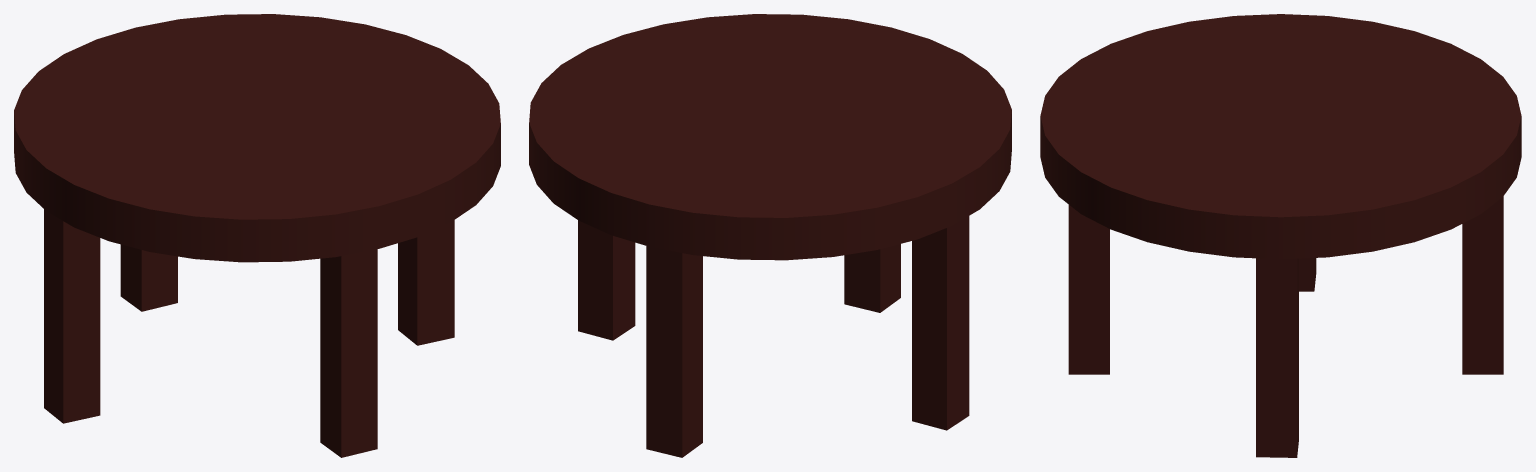
File: Mesa.fbx
3 views of the same model, side by side, from view 1: azimuth 30°, elevation 25°; view 2: azimuth 150°, elevation 25°; view 3: azimuth 270°, elevation 25° (orthographic).
Parts seen in each view (by area): view 1: Cylinder; view 2: Cylinder; view 3: Cylinder.
Part boxes in pixels (<box>): Cylinder: <box>14,14,500,457</box>; Cylinder: <box>529,14,1011,457</box>; Cylinder: <box>1040,14,1521,457</box>.
Size of the model in its own units: 338 by 196 by 338.
